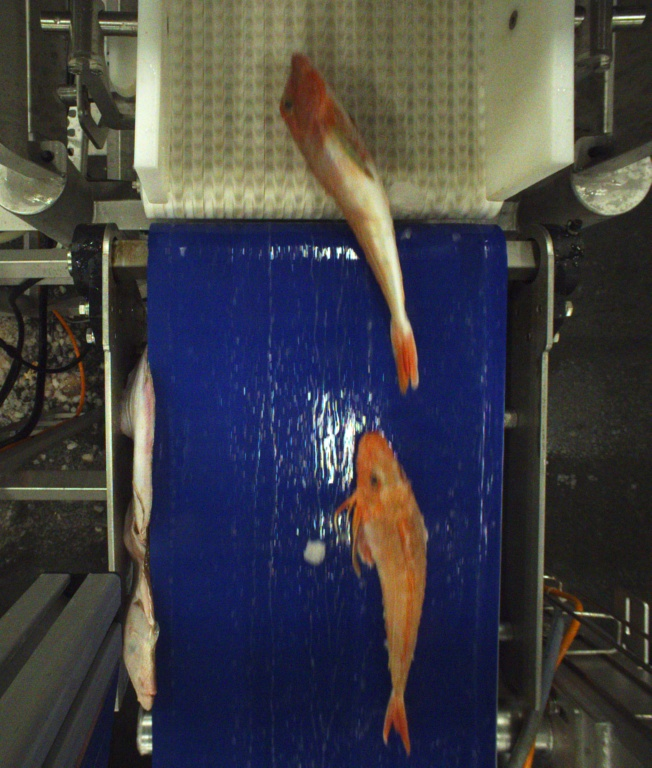GUU: (279, 52, 421, 394)
